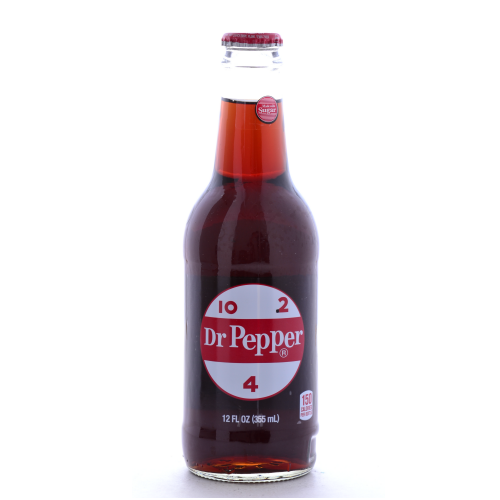Rec_Glass: (142, 10, 354, 487)
